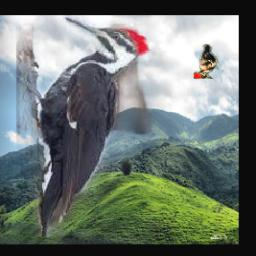Woodpecker: (15, 15, 151, 237), (193, 45, 219, 80)
